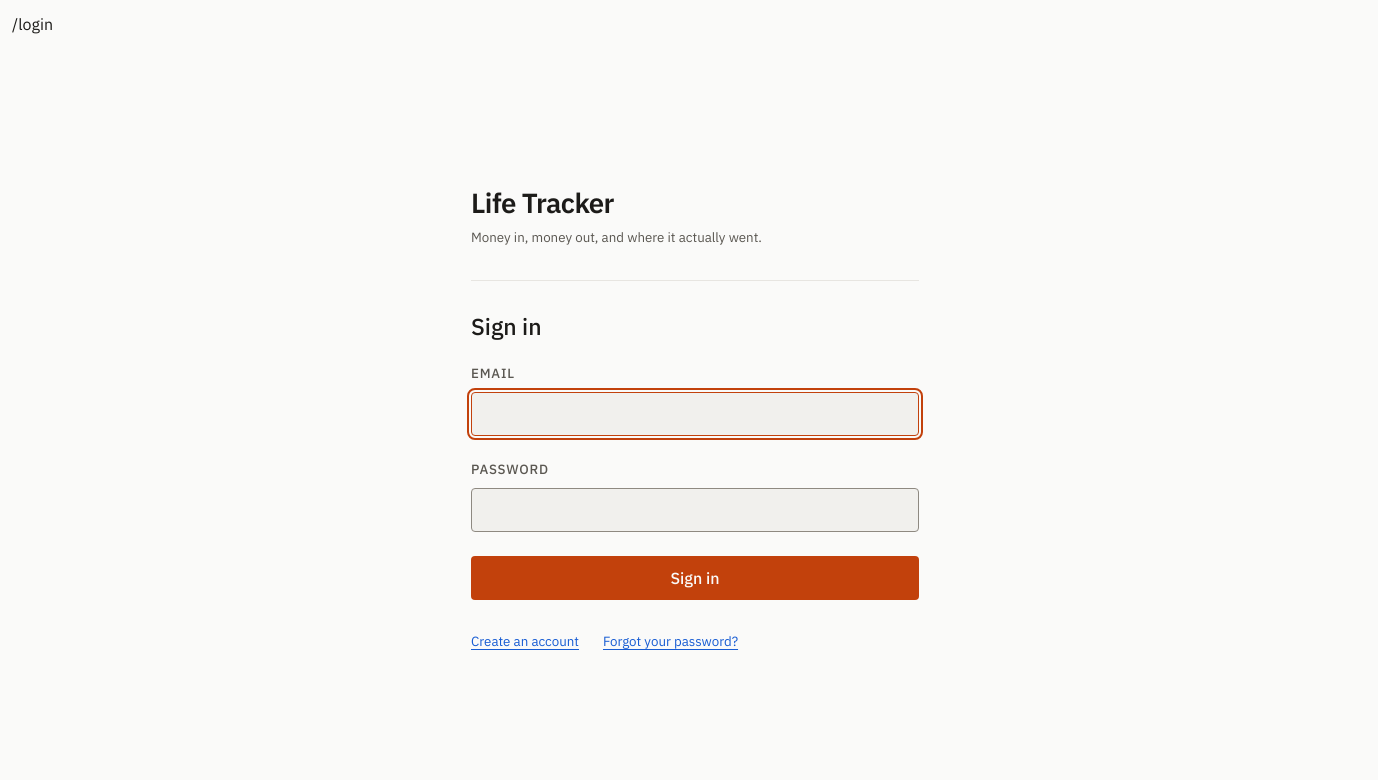
Scenario: the interrupted destination is returned to after signing in › lands on /accounts, not on /
Expected: the text with test id "pathname" reads "/login", [12,14,53,34]
Type "designer@example.com" into the field labelled "Email".
click(695, 414); type("designer@example.com")  # box [471,392,919,436]
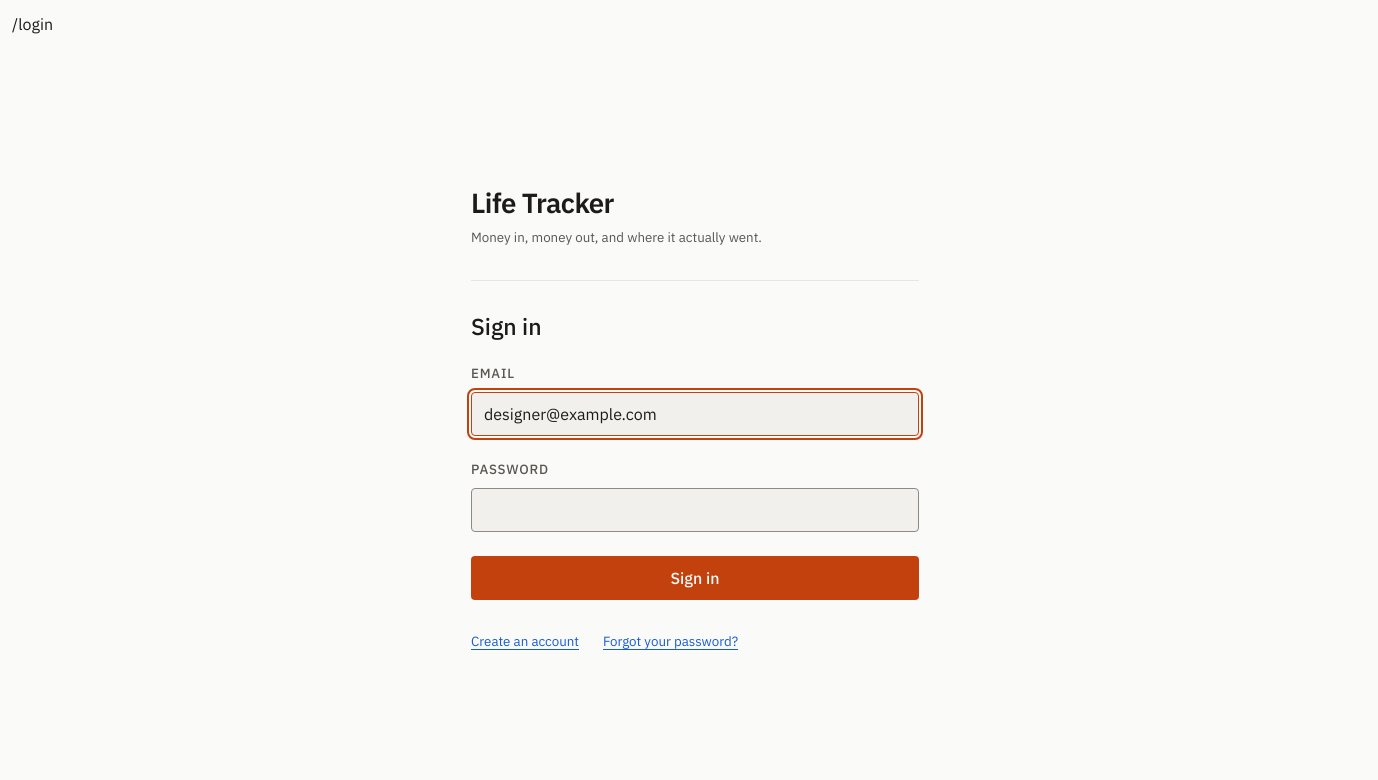
Type "correct-horse-battery-staple" into the password field labelled "Password".
click(695, 510); type("correct-horse-battery-staple")  # box [471,488,919,532]
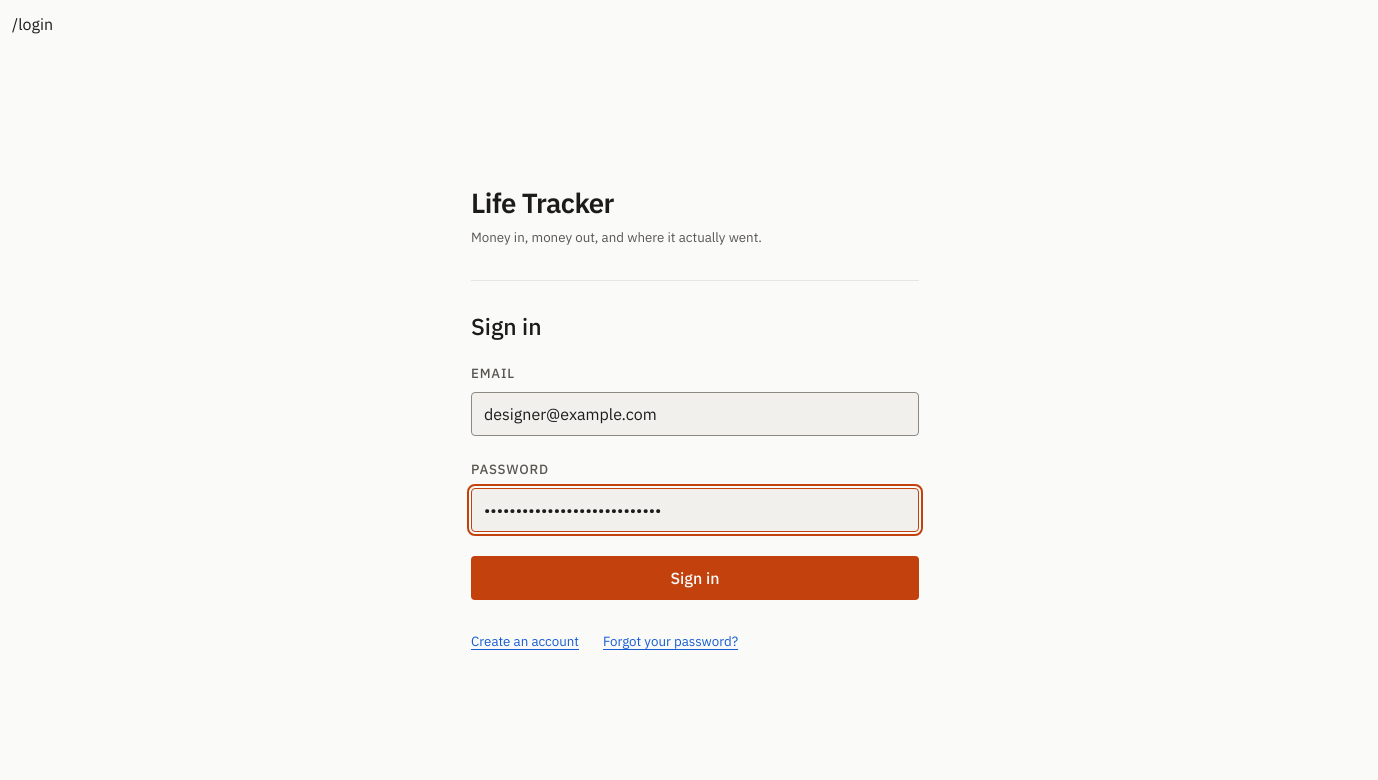
Click the button "Sign in".
click(695, 578)  # box [471,556,919,600]
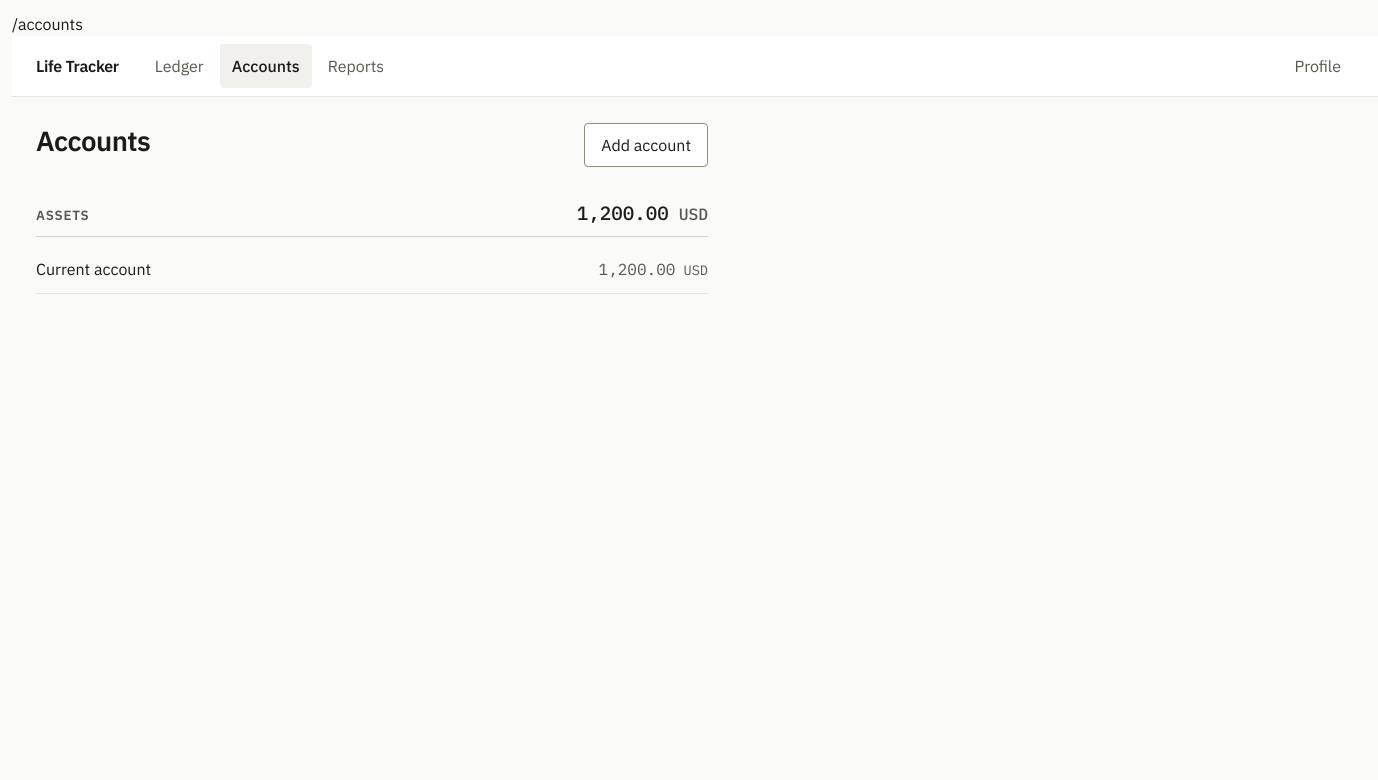
Result: the text with test id "pathname" reads "/accounts" at [12,14,83,34]
